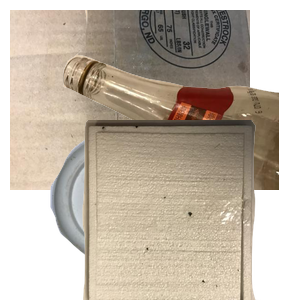cardboard: (10, 10, 250, 190)
glass: (60, 10, 300, 190)
plastic: (48, 132, 224, 300)
trash: (80, 120, 300, 300)
